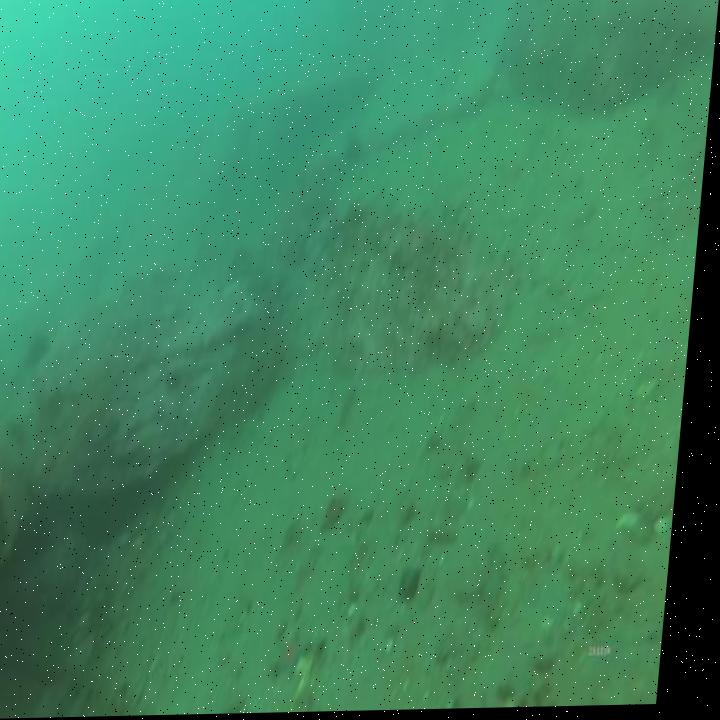starfish: (285, 628, 325, 687)
